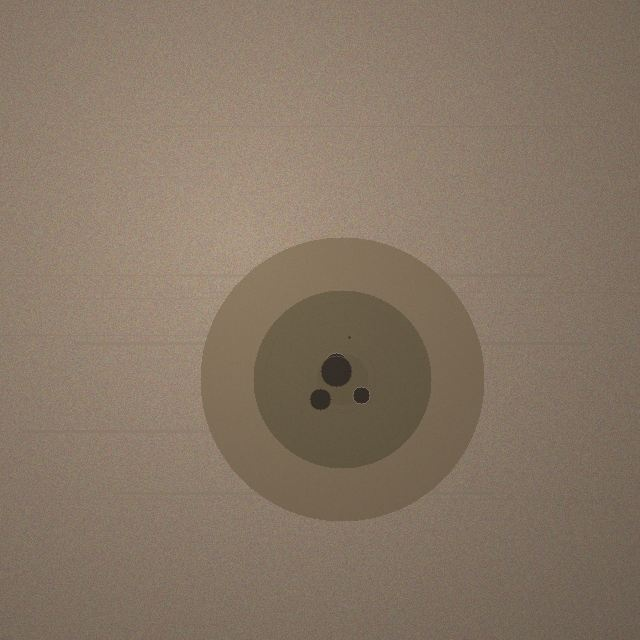shrinkage: (200, 237, 484, 521)
